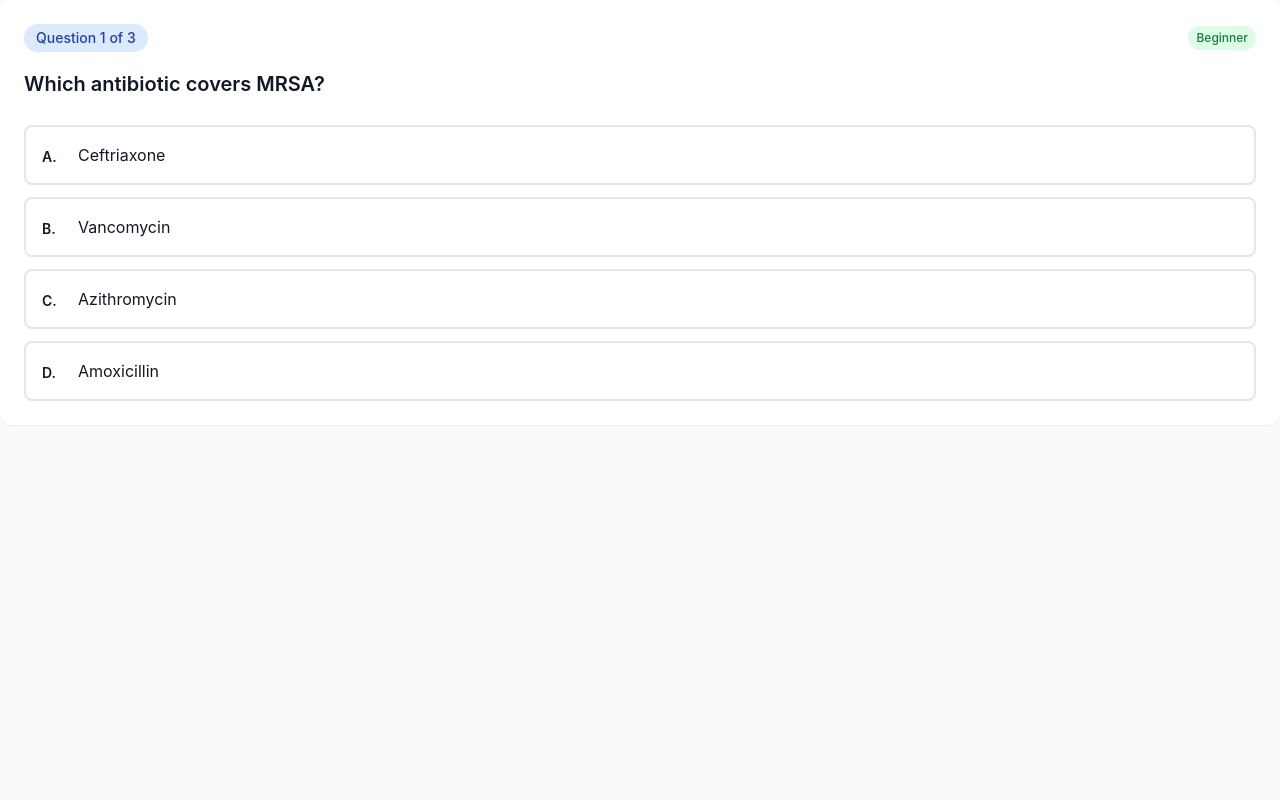
Test: QuizSession › question flow › advances to next question when clicking Next
# Answer first question
Click the button with test id "option-1": (124, 226) [24,196,1256,256]
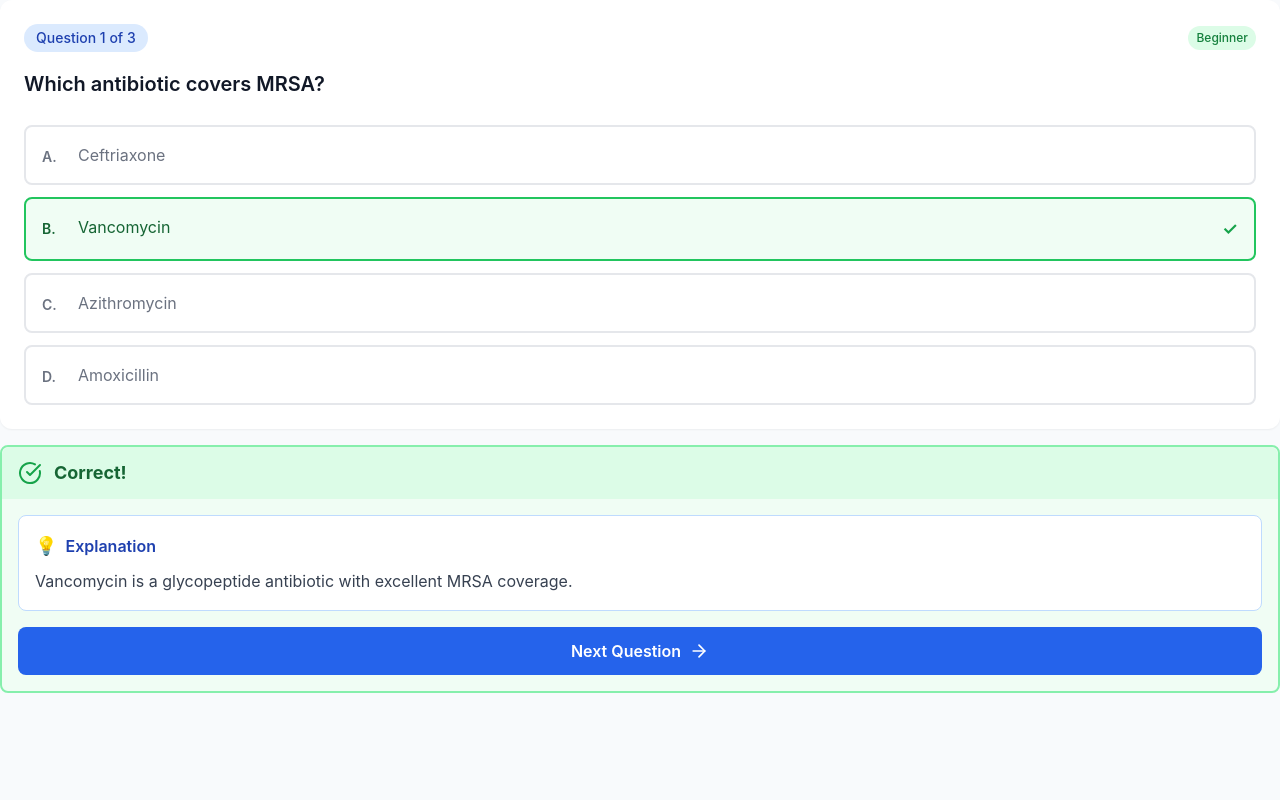
# Click Next
Click the button with test id "next-button": (640, 650) [18,626,1262,674]
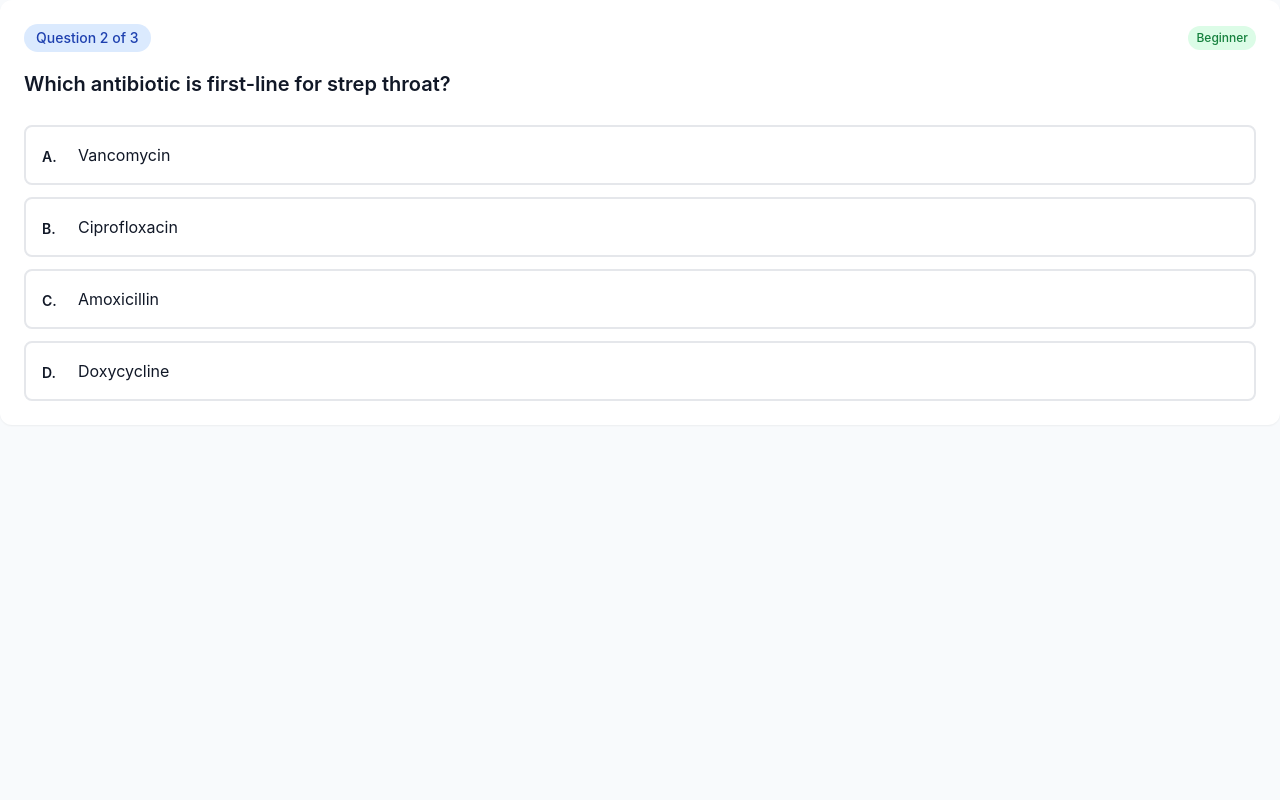
Check: the text "Question 2 of 3" is shown, box [24,24,150,52]
Check: the heading "Which antibiotic is first-line for strep throat?" is shown, box [24,72,451,96]
